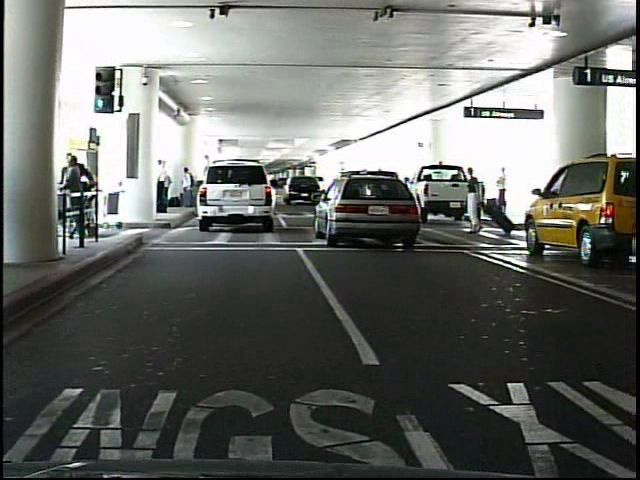person: (466, 165, 487, 236), (499, 165, 513, 217), (161, 157, 172, 217), (184, 167, 198, 210)
